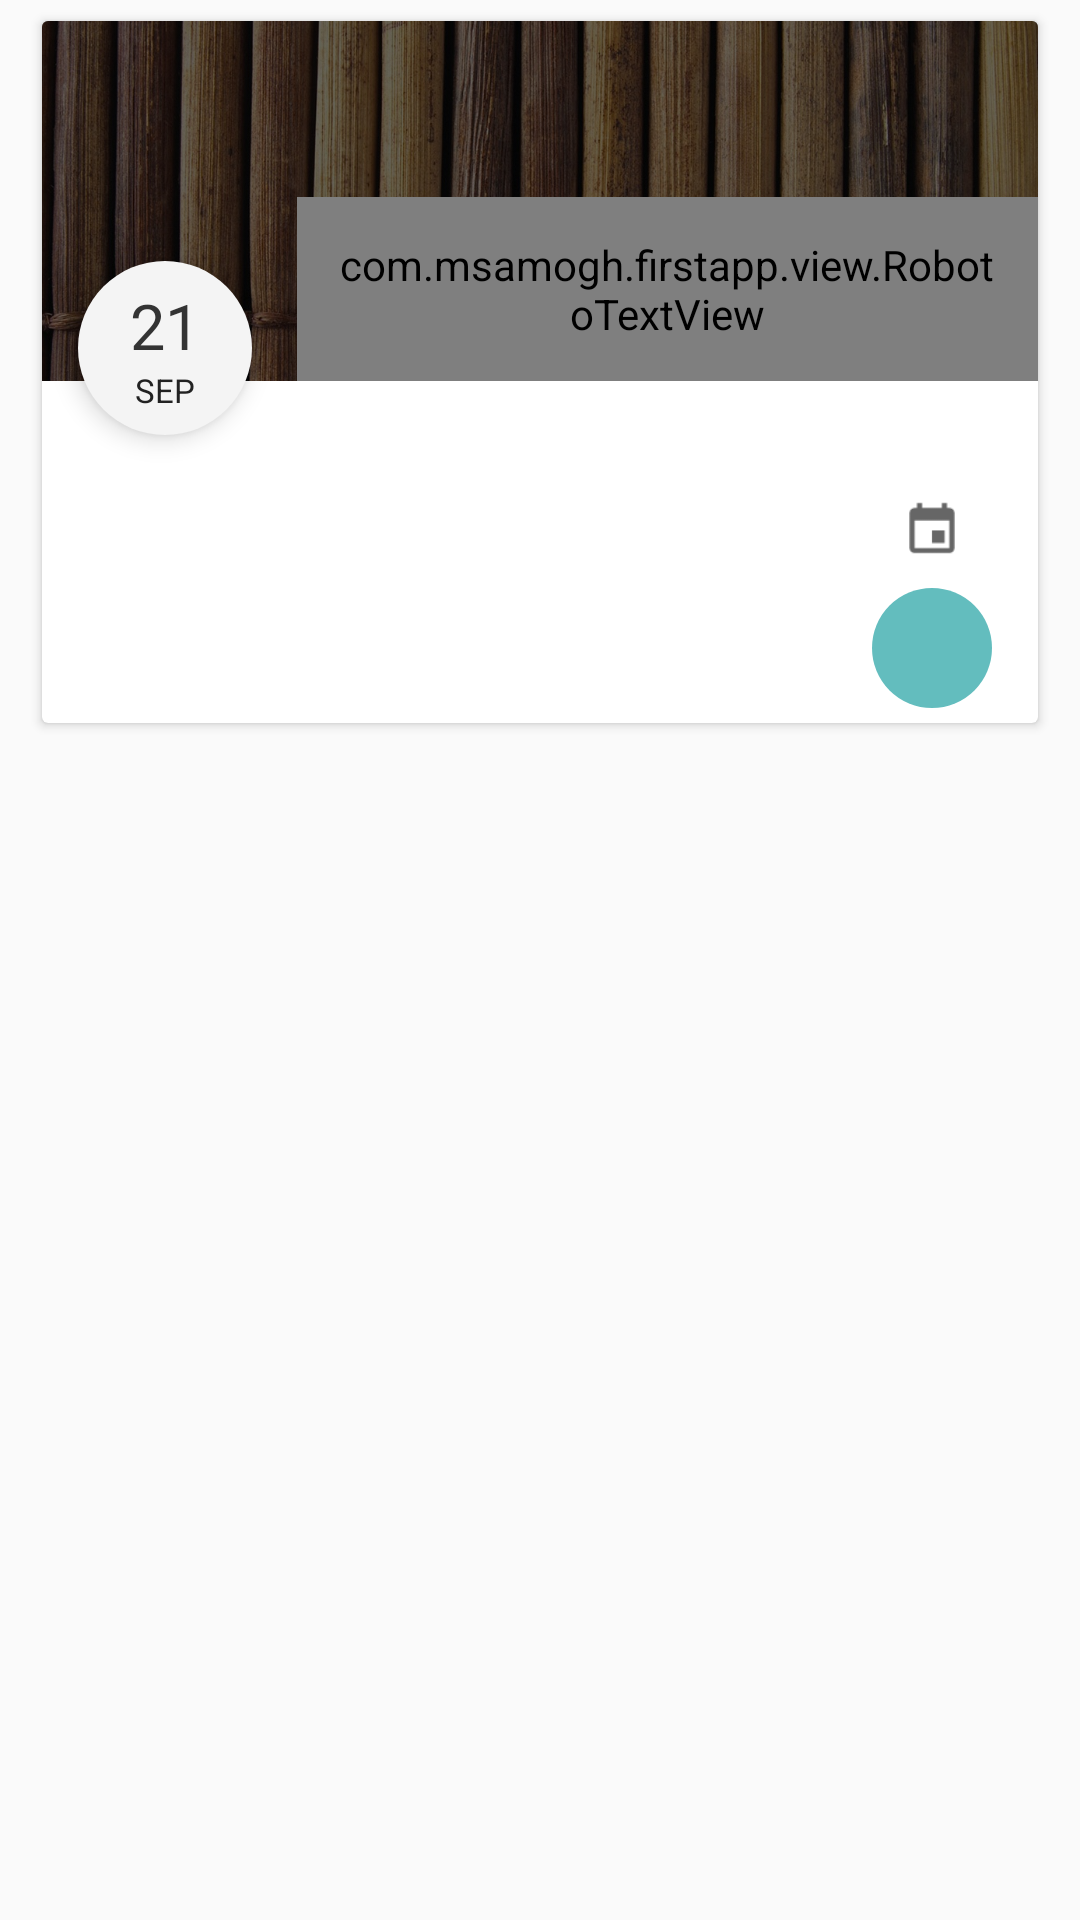

Named icons in this screenshot (1080 × 1920) and their bounding boxes, (x1, y1, x2, y2):
calendar: (909, 502, 955, 554)
